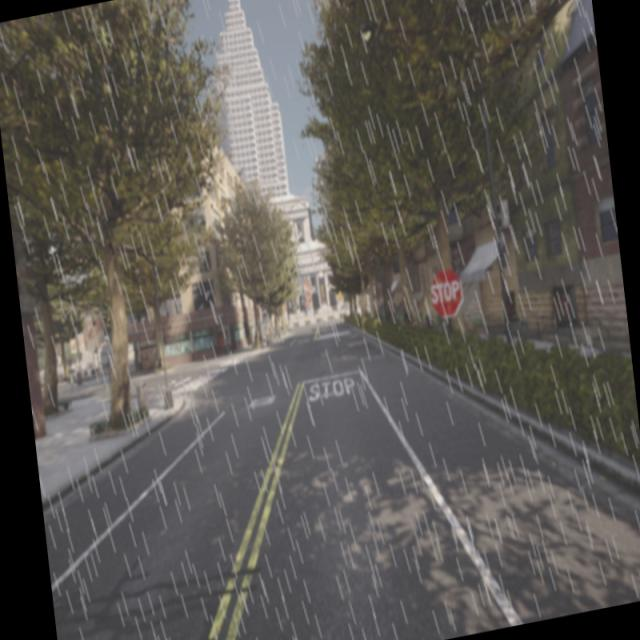stop sign: (427, 265, 466, 320)
